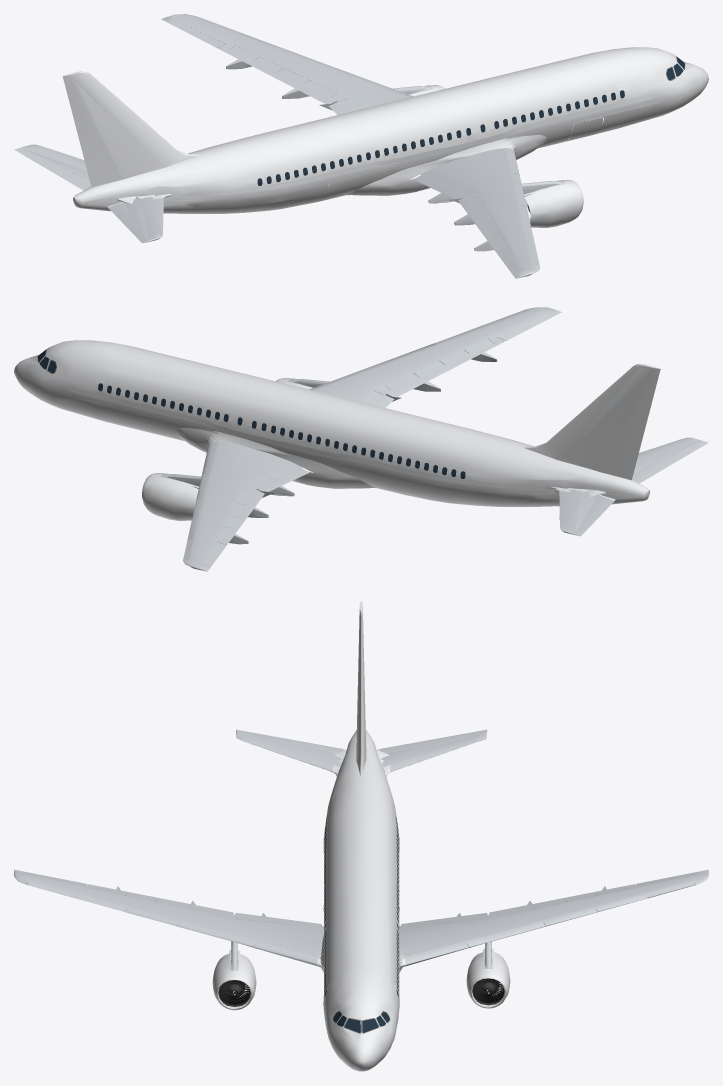
The picture shows the model from 3 angles, top to bottom: view 1: azimuth 30°, elevation 25°; view 2: azimuth 150°, elevation 25°; view 3: azimuth 270°, elevation 25°; orthographic projection. The views are drawn at different scales.
Visible parts, largest first — view 1: hull, wing, tail, engine, band-cheatline, glass, band-tailcone-trim, band-belly-trim, band-cheatline-trim; view 2: hull, wing, tail, engine, band-cheatline, glass, band-tailcone-trim, band-belly-trim, band-cheatline-trim; view 3: wing, hull, tail, engine, glass, c202020.
Part boxes in pixels (bbox=[...]): hull: bbox=[73, 47, 708, 213]; wing: bbox=[14, 14, 565, 278]; tail: bbox=[62, 71, 334, 201]; engine: bbox=[409, 85, 583, 227]; band-cheatline: bbox=[107, 94, 651, 203]; glass: bbox=[257, 57, 684, 185]; band-tailcone-trim: bbox=[228, 95, 658, 193]; band-belly-trim: bbox=[164, 94, 688, 201]; band-cheatline-trim: bbox=[164, 101, 647, 199]; hull: bbox=[14, 340, 649, 506]; wing: bbox=[160, 307, 708, 571]; tail: bbox=[388, 364, 660, 495]; engine: bbox=[142, 378, 312, 520]; band-cheatline: bbox=[71, 387, 615, 496]; glass: bbox=[38, 350, 465, 478]; band-tailcone-trim: bbox=[64, 388, 494, 486]; band-belly-trim: bbox=[34, 387, 558, 494]; band-cheatline-trim: bbox=[75, 394, 558, 492]; wing: bbox=[14, 729, 708, 1071]; hull: bbox=[317, 730, 405, 1071]; tail: bbox=[347, 601, 375, 837]; engine: bbox=[212, 948, 510, 1010]; glass: bbox=[324, 817, 398, 1032]; c202020: bbox=[218, 978, 504, 1005].
Bounding box in the file's own units: 37.6 × 11.43 × 35.8.
